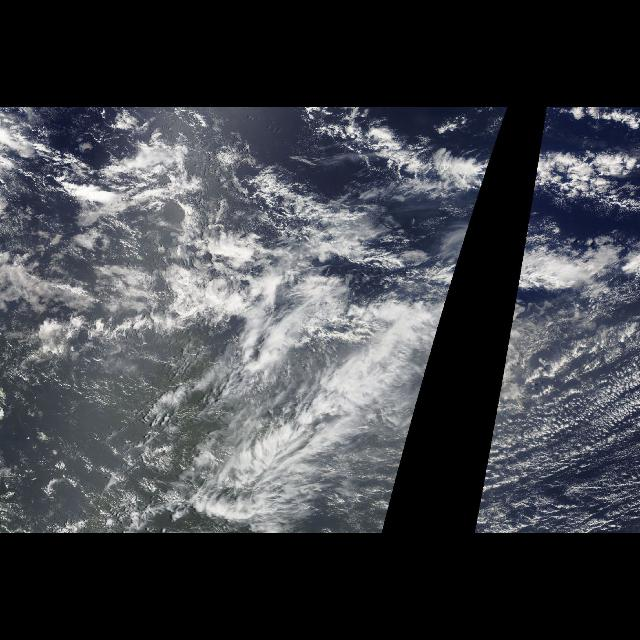Sugar: (492, 403, 640, 533)
